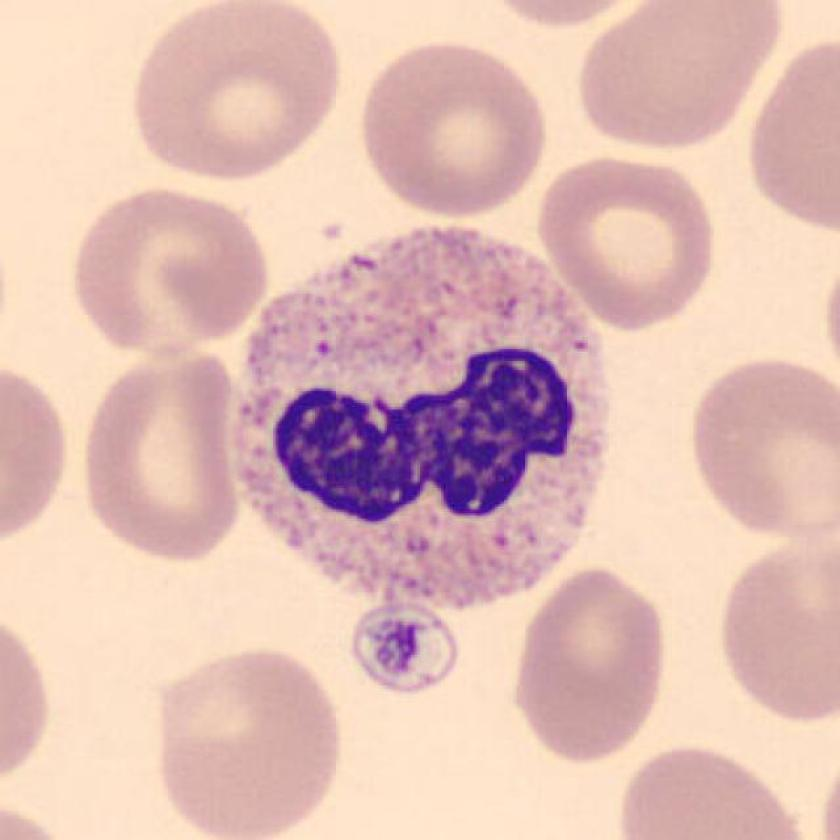neutrophil: (233, 224, 610, 604)
